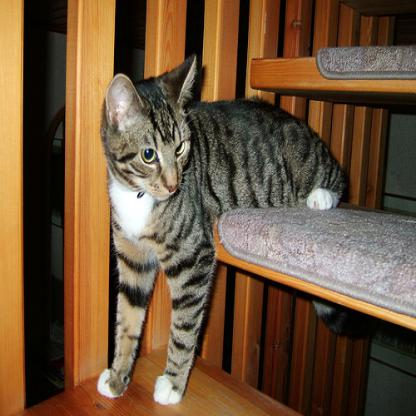cat: (88, 49, 269, 383)
